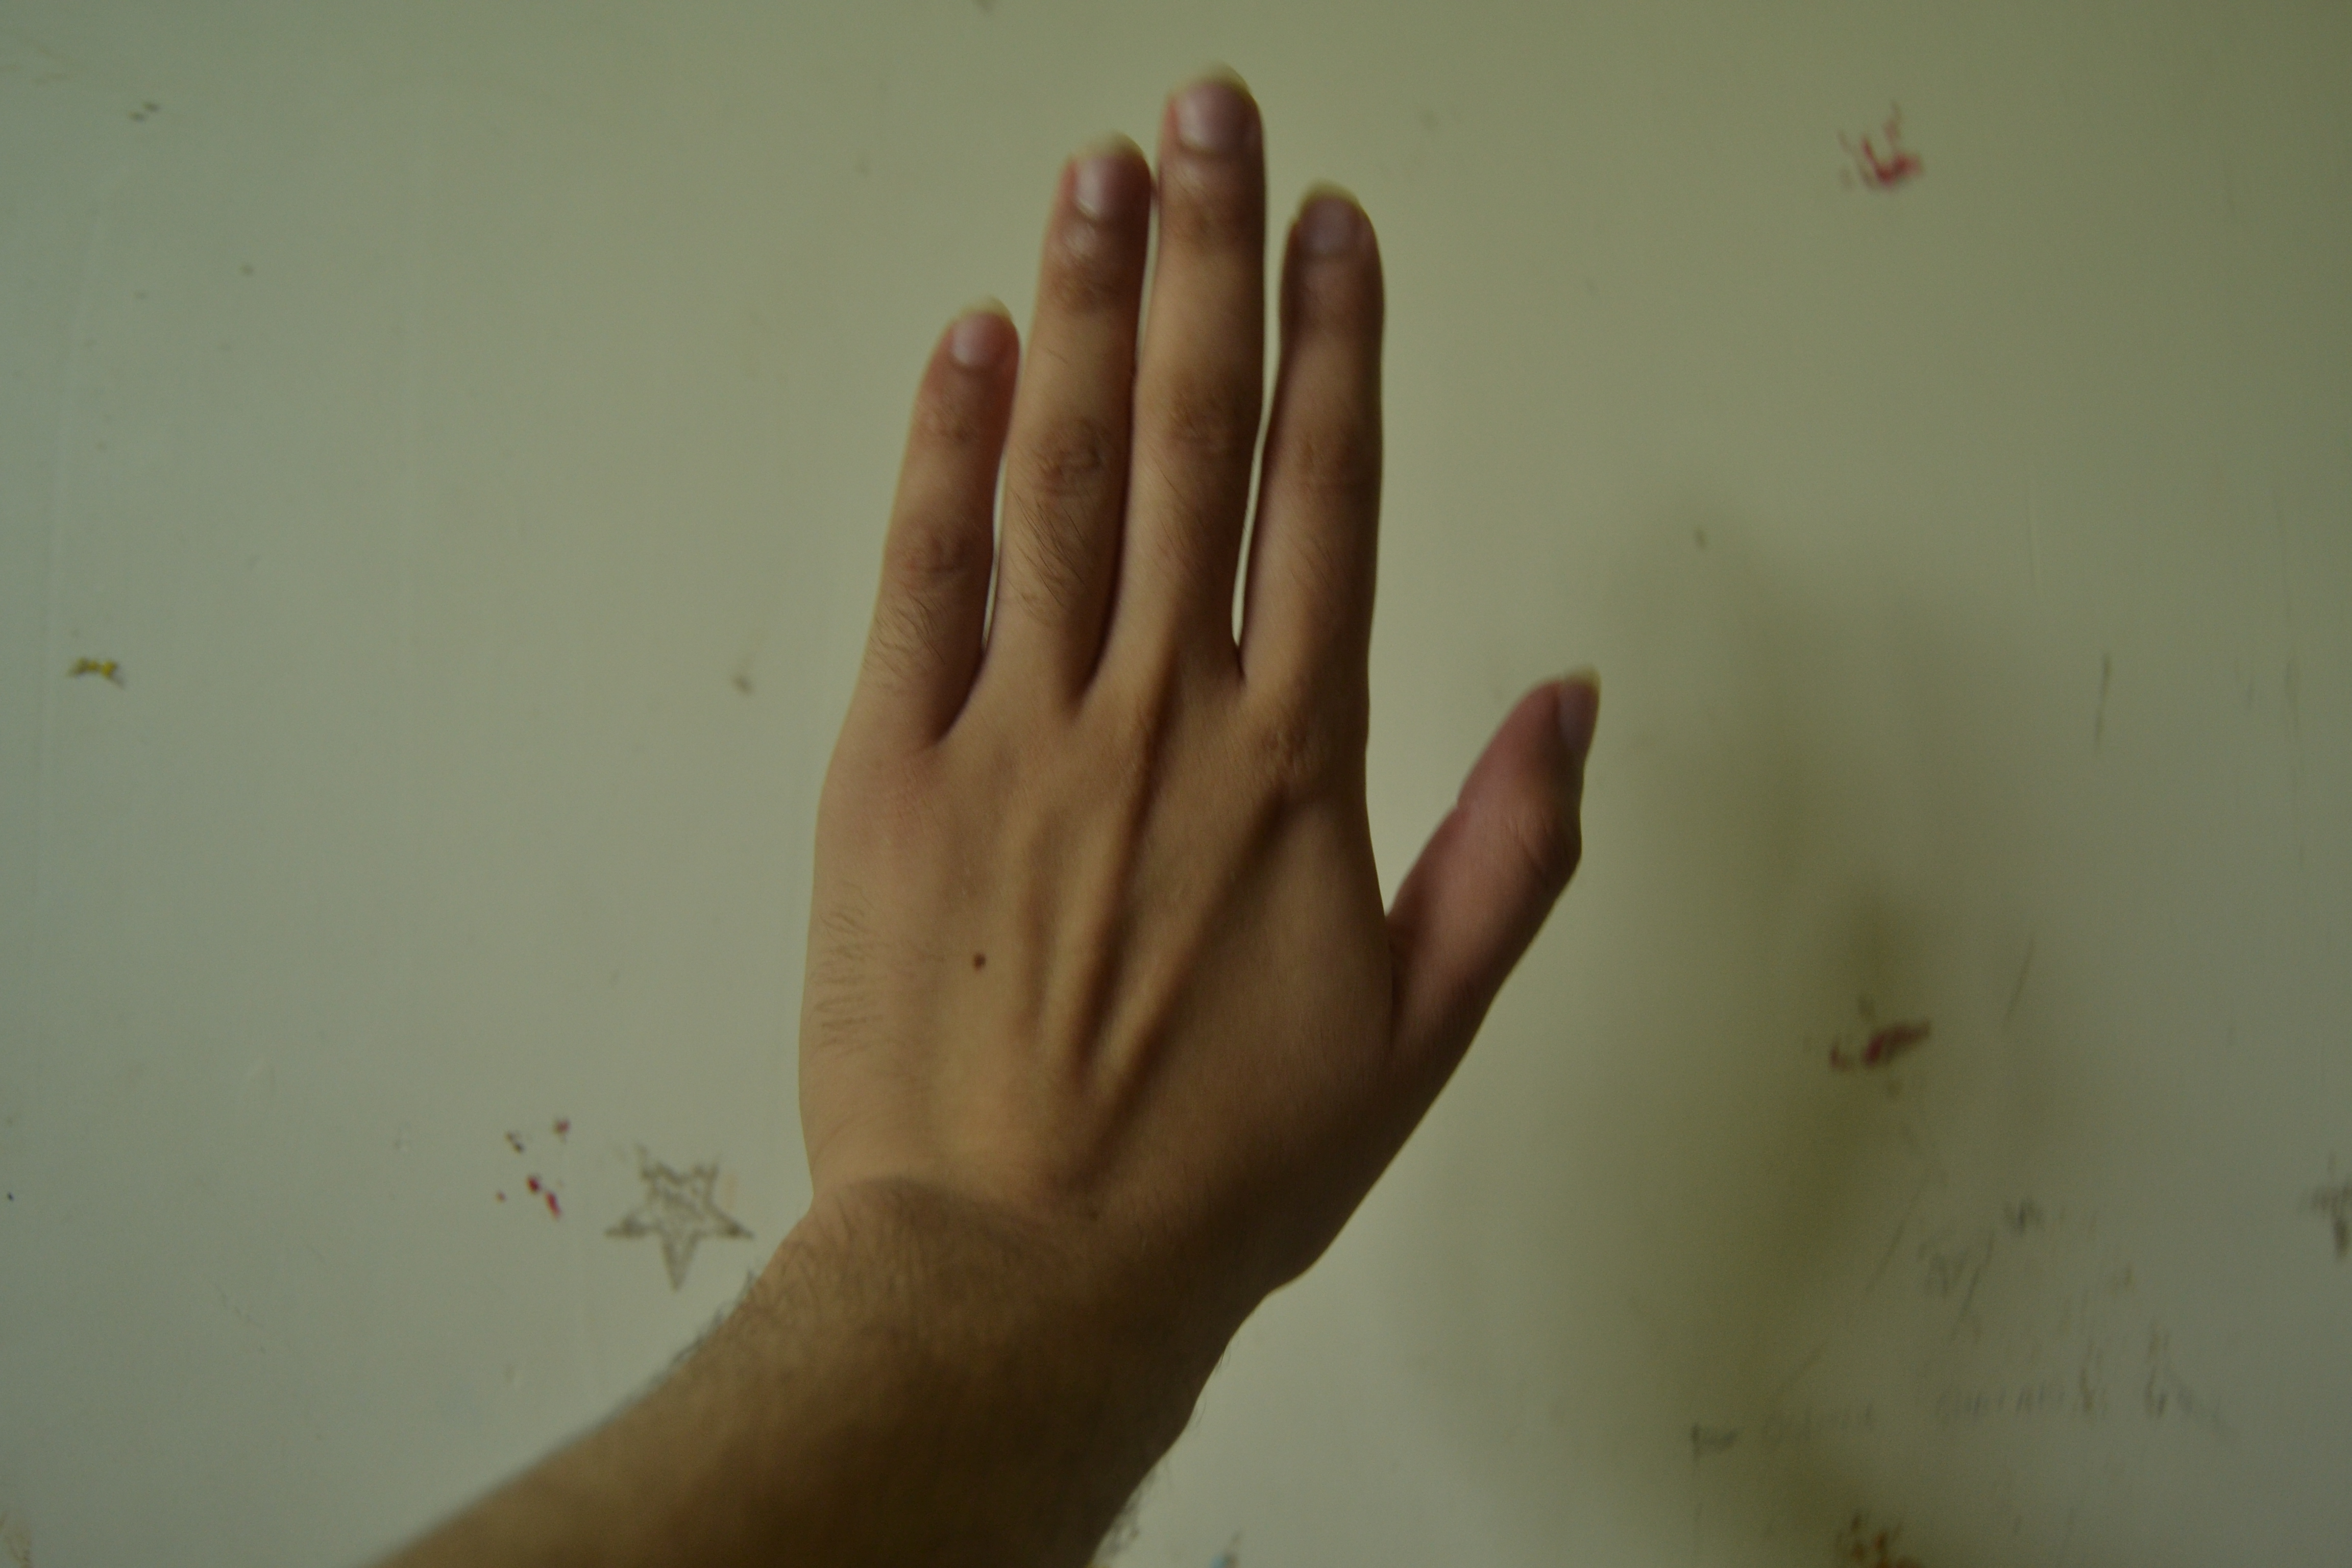move: (758, 42, 1724, 1384)
